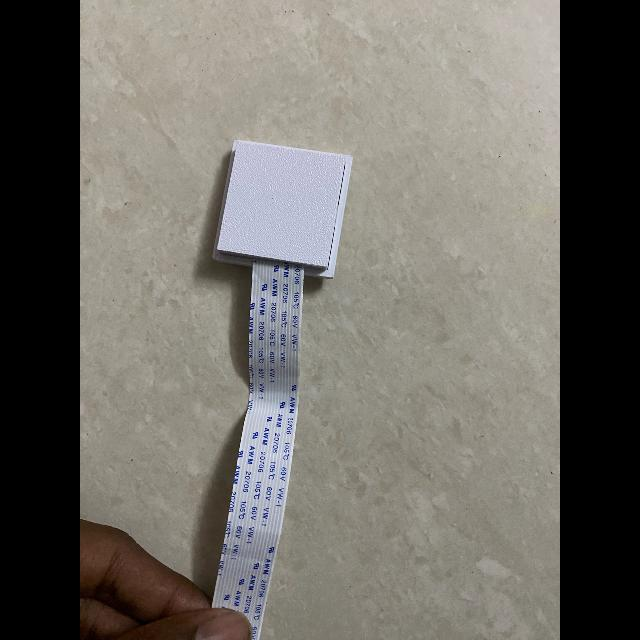RASPBERY PI CAM ENCLOSURE: (213, 139, 353, 279)
